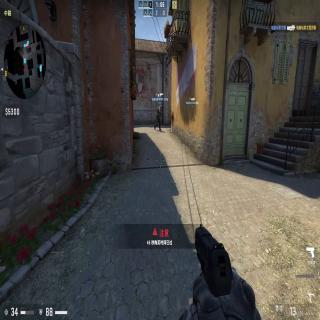CT-Body: (154, 105, 163, 131)
CT-Head: (159, 106, 161, 110)
